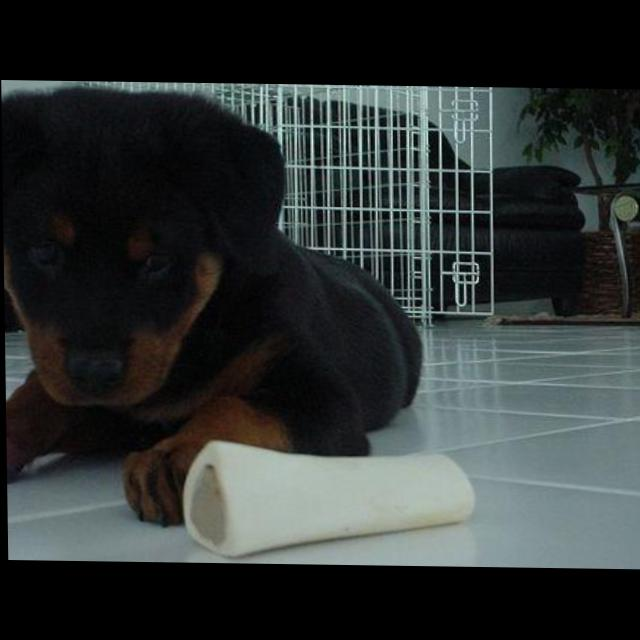rottweiler: (2, 83, 425, 530)
